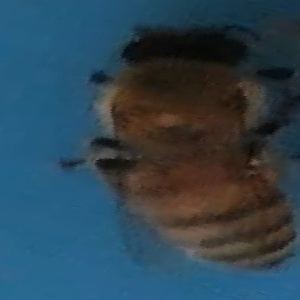bee: (98, 24, 300, 270)
